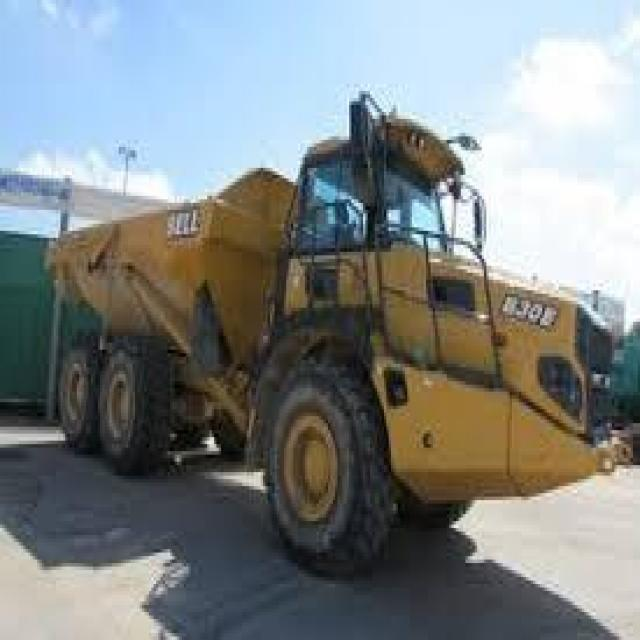Dump Truck: (50, 94, 630, 570)
